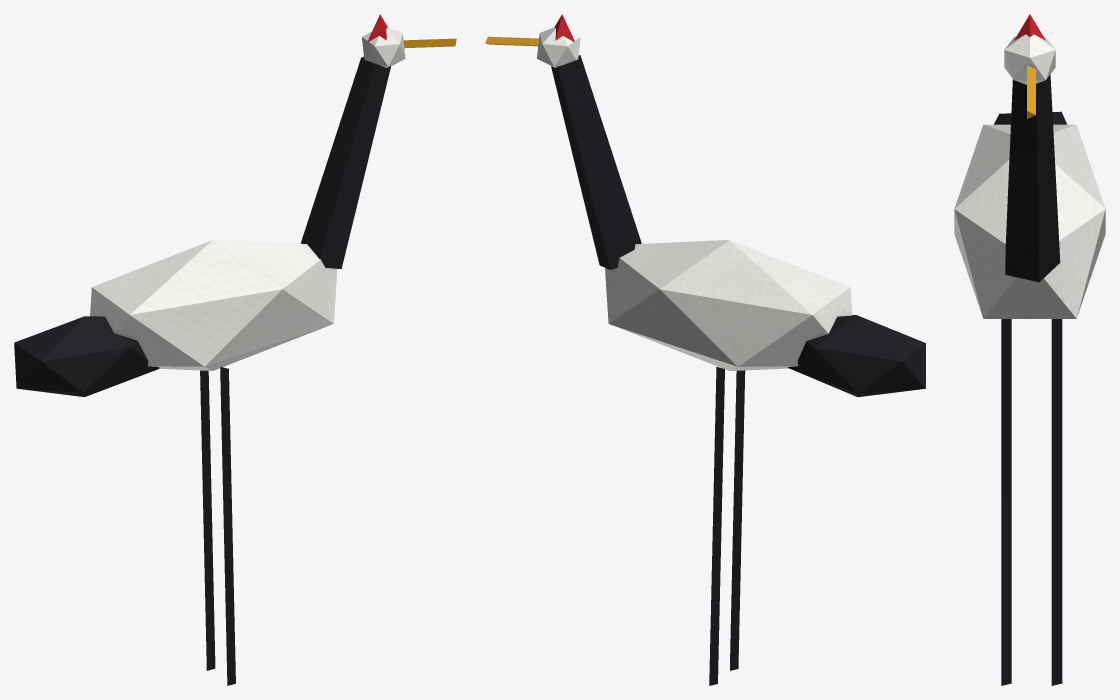
The model's file is trana_tex.glb.
3 renders of one model, left to right at view 1: azimuth 30°, elevation 25°; view 2: azimuth 150°, elevation 25°; view 3: azimuth 270°, elevation 25°, orthographic. The views are drawn at different scales.
Visible parts, largest first — view 1: trana; view 2: trana; view 3: trana.
Boxes of the visible parts, x1=… form: trana: x1=14, y1=14, x2=456, y2=685; trana: x1=485, y1=14, x2=925, y2=685; trana: x1=954, y1=14, x2=1105, y2=685.
Size of the model in its own units: 1.23 by 1.67 by 0.2994.
Materials: 5 (5 with a texture image).
